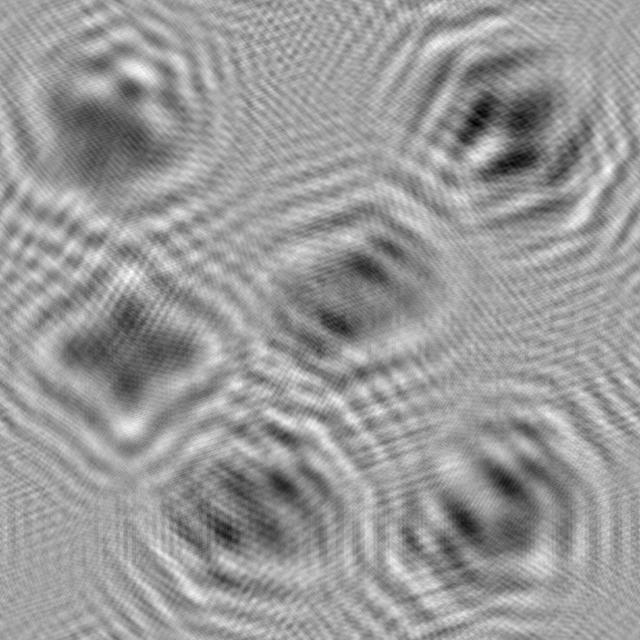K: (0, 0, 243, 239)
M: (361, 378, 639, 640)
N: (119, 381, 403, 640)
W: (383, 0, 640, 263)
X: (0, 217, 264, 477)
Z: (210, 161, 494, 422)
